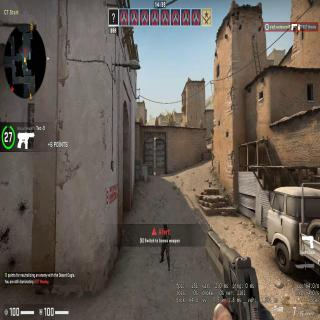CT-Body: (158, 218, 170, 271)
CT-Head: (163, 222, 168, 230)
